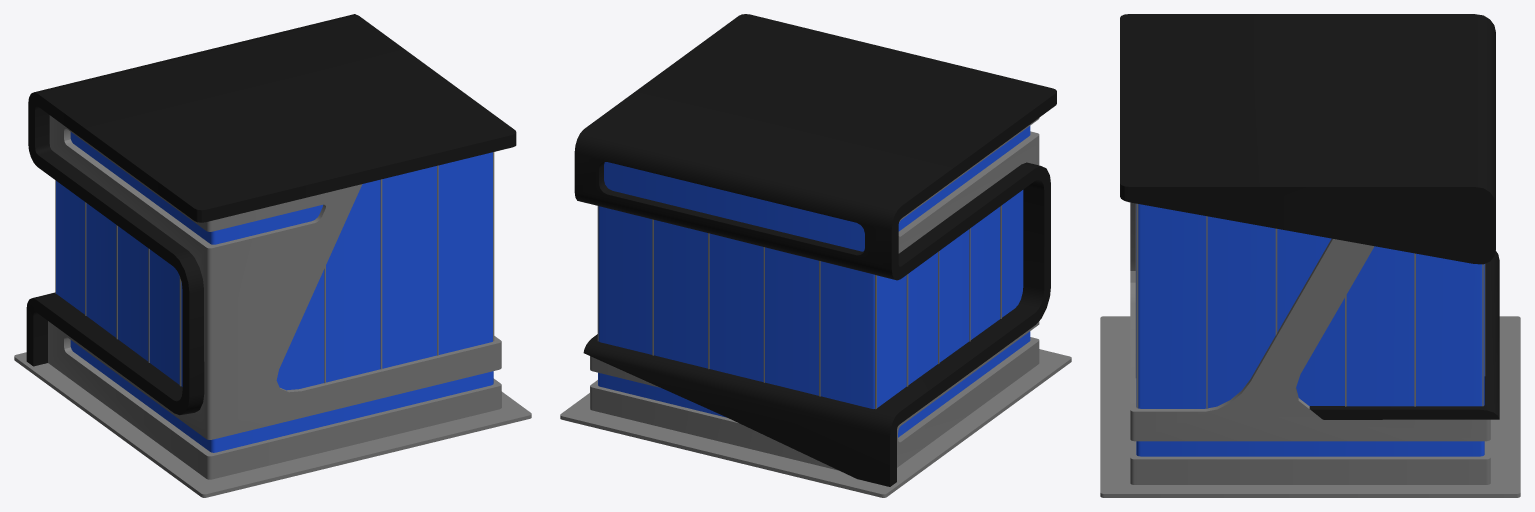
The model's file is SM_B_Simple_03.fbx.
The picture shows the model from 3 angles, left to right: view 1: azimuth 30°, elevation 25°; view 2: azimuth 150°, elevation 25°; view 3: azimuth 270°, elevation 25°; orthographic projection. The views are drawn at different scales.
Visible parts, largest first — view 1: SM_B_Simple_03; view 2: SM_B_Simple_03; view 3: SM_B_Simple_03.
Part boxes in pixels (box(x1,y1,x2,y2)): SM_B_Simple_03: box(14, 14, 531, 497); SM_B_Simple_03: box(560, 14, 1071, 497); SM_B_Simple_03: box(1100, 14, 1520, 497).
Size of the model in its own units: 2101 by 1700 by 2100.
